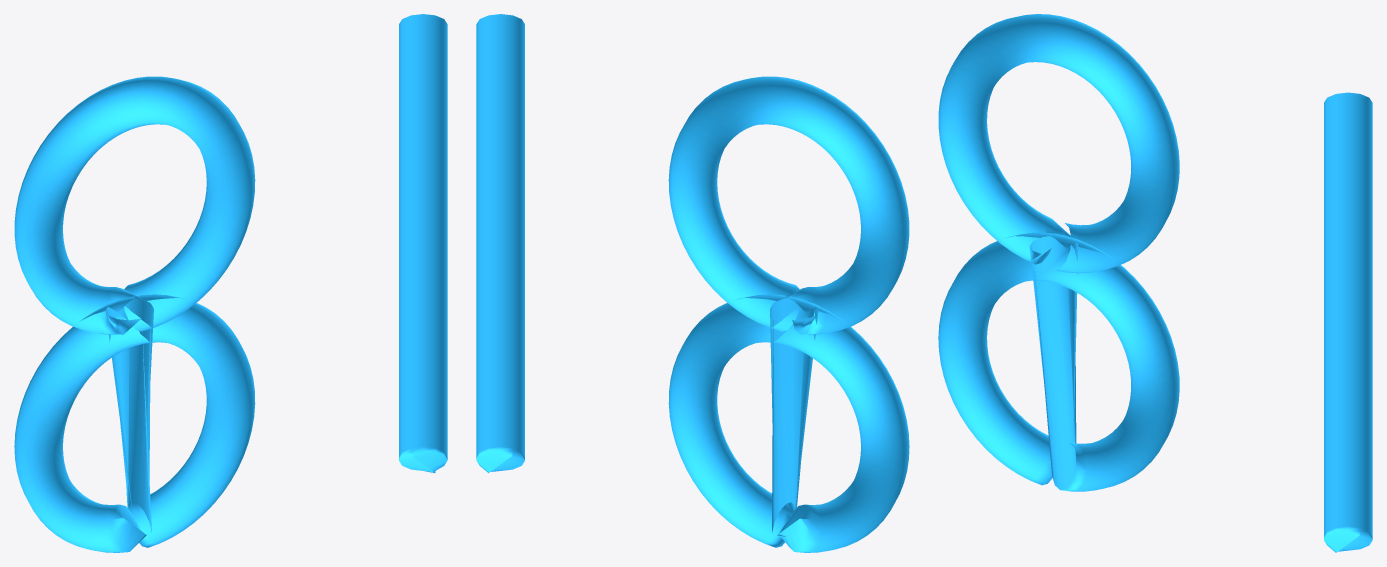
The picture shows the model from 3 angles, left to right: view 1: azimuth 30°, elevation 25°; view 2: azimuth 150°, elevation 25°; view 3: azimuth 330°, elevation 25°; orthographic projection.
Parts seen in each view (by area): view 1: MorphMesh; view 2: MorphMesh; view 3: MorphMesh.
Boxes of the visible parts, x1,y1,x2,y2 form: MorphMesh: (14,14,447,552); MorphMesh: (476,14,909,552); MorphMesh: (938,14,1372,552).
Size of the model in its own units: 2.13 by 2.23 by 0.21.
